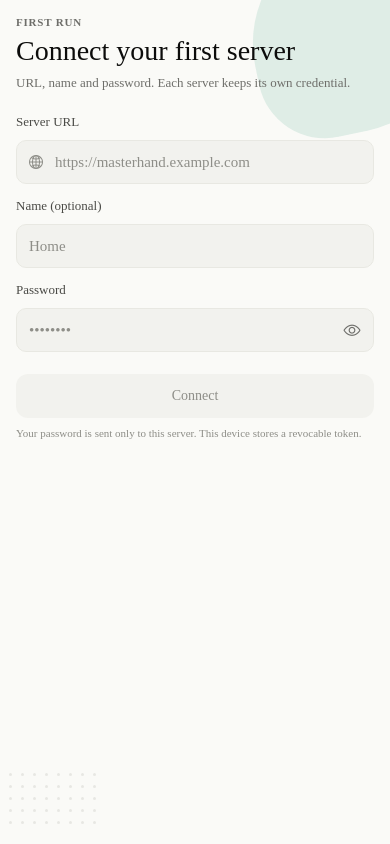
Test case: App › shows the wrong-password error inline
Type "https://host" into the field with test id "server-url-input" at (195, 162), box x1=16 y1=140 x2=374 y2=184
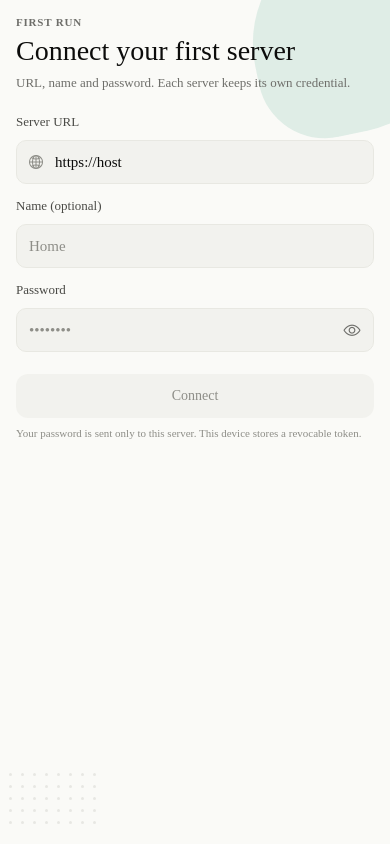
Type "bad" into the password field with test id "password-input" at (195, 330), box x1=16 y1=308 x2=374 y2=352
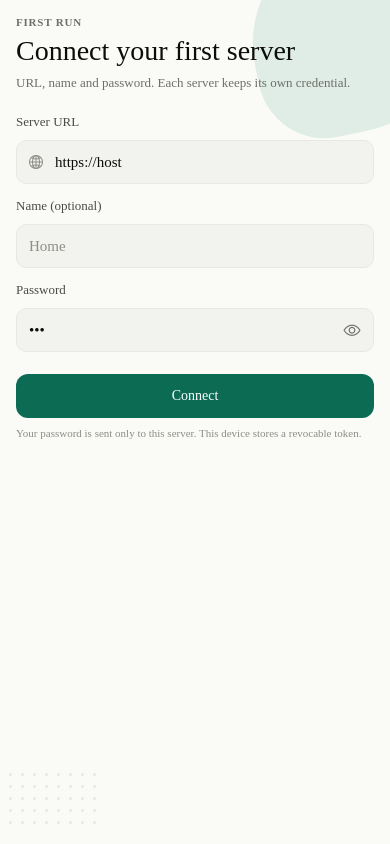
Click the button with test id "connect-button" at (195, 396), box x1=16 y1=374 x2=374 y2=418
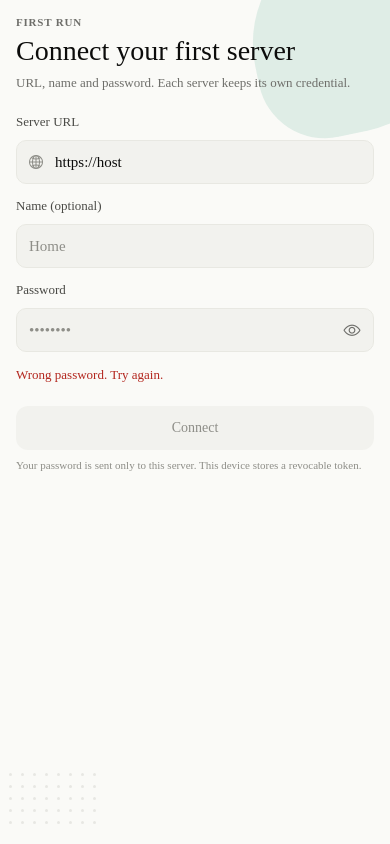
Expected: the text "Wrong password. Try again." is shown, x1=16 y1=367 x2=163 y2=382
